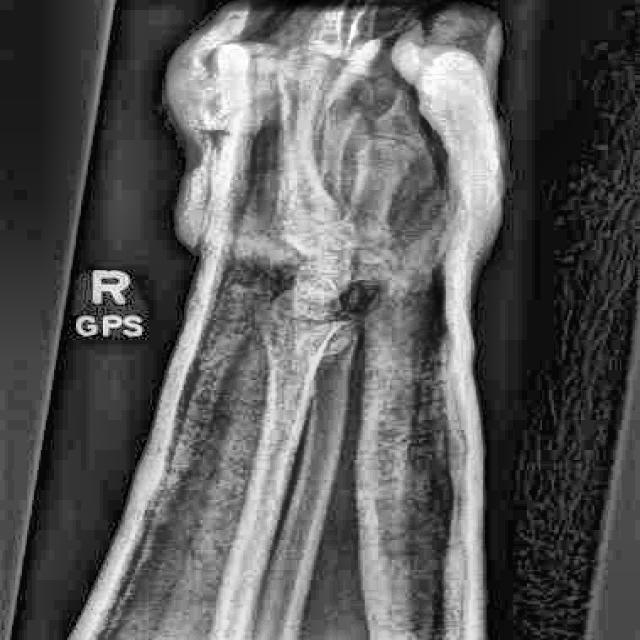fingers positive: (216, 269, 412, 381)
